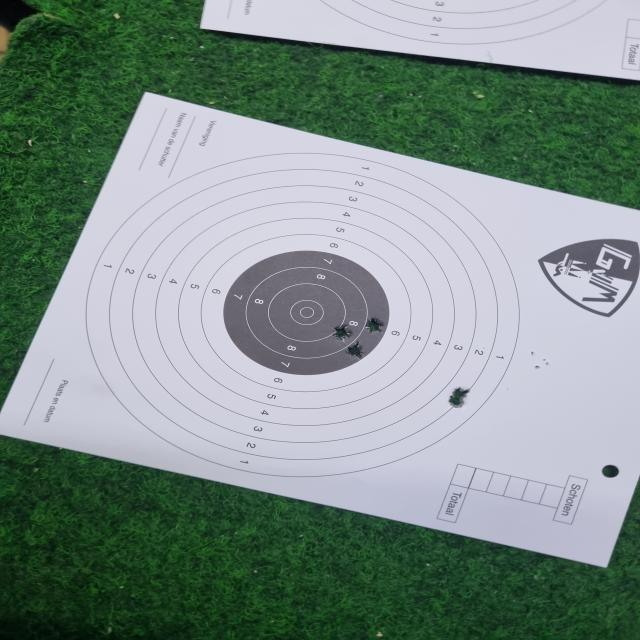2: (452, 387, 470, 400), (448, 396, 464, 408)
7: (346, 341, 365, 360), (364, 317, 384, 333)
9: (333, 325, 354, 343)
Target: (84, 153, 521, 477), (262, 0, 635, 46)
black_contour: (222, 246, 391, 375)
